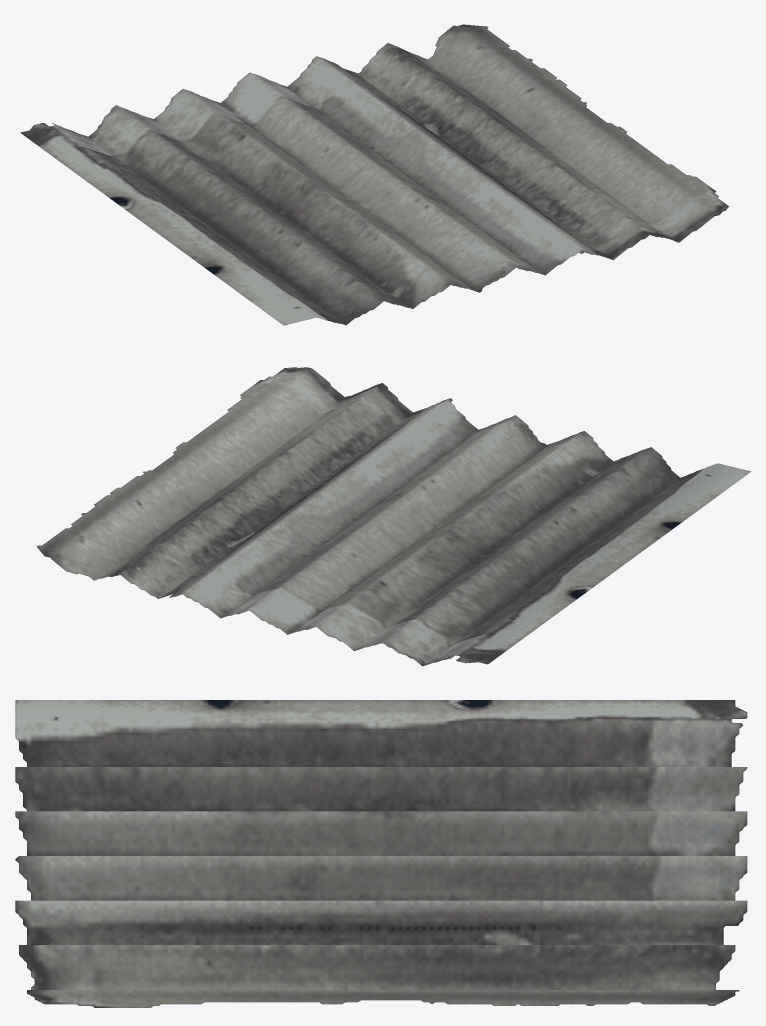
File: Slate.fbx
3 renders of one model, top to bottom at view 1: azimuth 30°, elevation 25°; view 2: azimuth 150°, elevation 25°; view 3: azimuth 270°, elevation 25°, orthographic. The views are drawn at different scales.
Visible parts, largest first — view 1: Plane; view 2: Plane; view 3: Plane.
Part boxes in pixels (x1,y1,x2,y2): Plane: (20,24,728,325); Plane: (37,367,750,666); Plane: (15,700,747,1007).
Bounding box in the file's own units: 2 × 0.0788 × 2.
